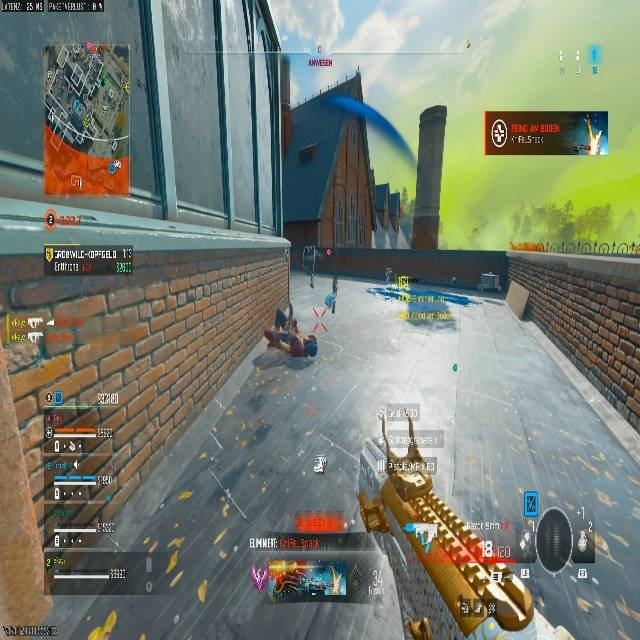head: (303, 334, 318, 357), (276, 306, 293, 325), (274, 309, 287, 326)
player: (265, 306, 319, 360)
